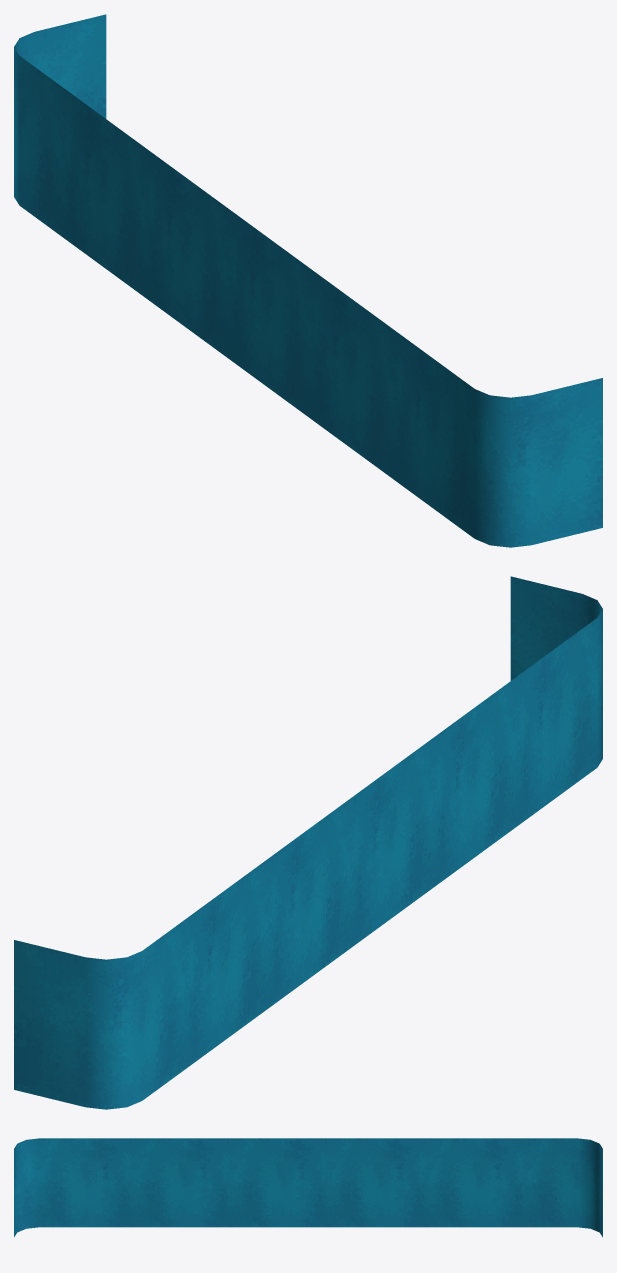
File: Cliff_Cave_Entrance_Waterfall_Wide_Mid.glb
3 views of the same model, one above another, from view 1: azimuth 30°, elevation 25°; view 2: azimuth 150°, elevation 25°; view 3: azimuth 270°, elevation 25° (orthographic). The views are drawn at different scales.
Visible parts, largest first — view 1: Water_Waterfall_Mid_Right_1x1, Water_Waterfall_Mid_Left_1x1, Water_Waterfall_Mid_Center_1x1 (×2); view 2: Water_Waterfall_Mid_Left_1x1, Water_Waterfall_Mid_Right_1x1, Water_Waterfall_Mid_Center_1x1 (×2); view 3: Water_Waterfall_Mid_Center_1x1 (×2), Water_Waterfall_Mid_Left_1x1, Water_Waterfall_Mid_Right_1x1.
Boxes of the visible parts, x1=… form: Water_Waterfall_Mid_Right_1x1: x1=330, y1=283, x2=602, y2=547; Water_Waterfall_Mid_Left_1x1: x1=14, y1=14, x2=164, y2=311; Water_Waterfall_Mid_Center_1x1 (×2): x1=164, y1=162, x2=329, y2=432; Water_Waterfall_Mid_Left_1x1: x1=14, y1=845, x2=286, y2=1109; Water_Waterfall_Mid_Right_1x1: x1=452, y1=576, x2=602, y2=873; Water_Waterfall_Mid_Center_1x1 (×2): x1=287, y1=724, x2=452, y2=994; Water_Waterfall_Mid_Center_1x1 (×2): x1=210, y1=1138, x2=406, y2=1227; Water_Waterfall_Mid_Left_1x1: x1=406, y1=1138, x2=602, y2=1237; Water_Waterfall_Mid_Right_1x1: x1=14, y1=1138, x2=210, y2=1237.
Bounding box in the file's own units: 75 × 100 × 600.
3 materials, 3 textured.
